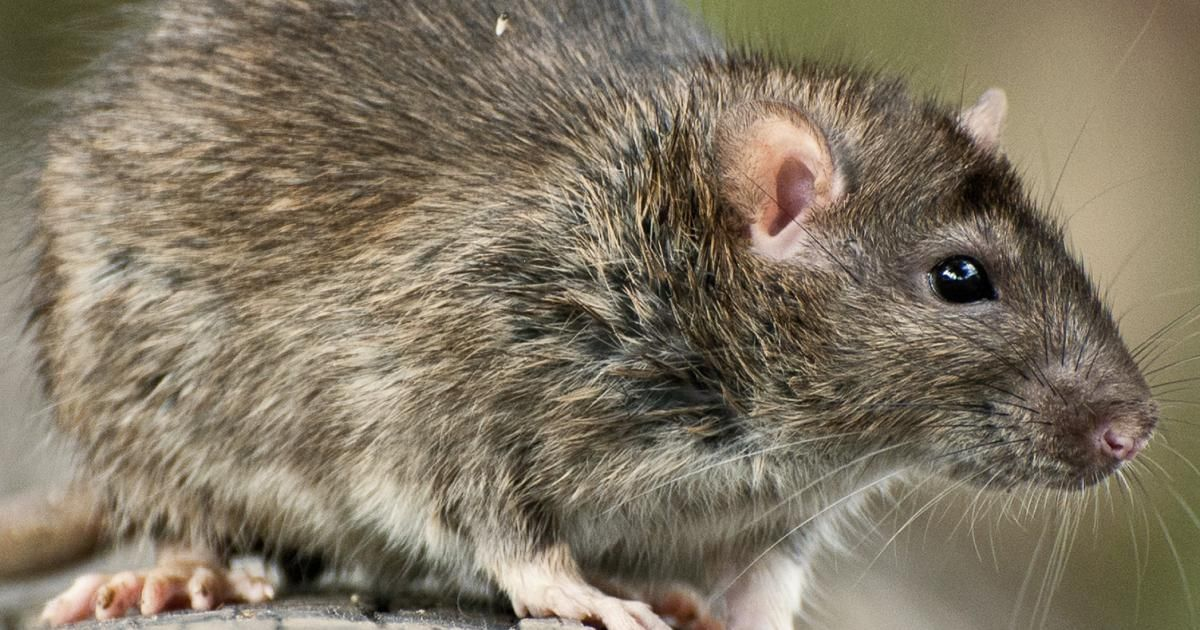rat: (16, 1, 1191, 627)
